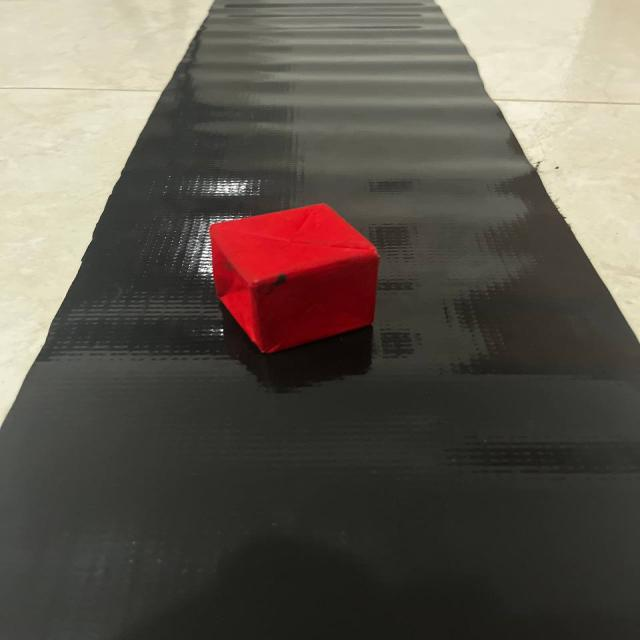Rojo: (193, 190, 394, 372)
